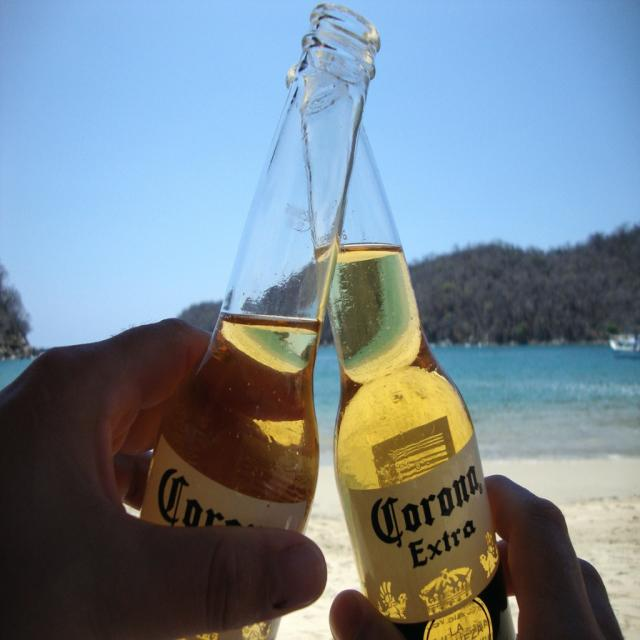corona: (349, 432, 519, 640)
